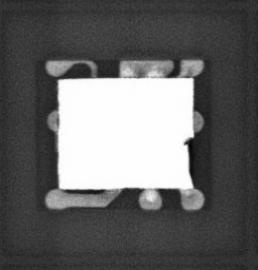DIE_BROKEN: (183, 135, 195, 186)
